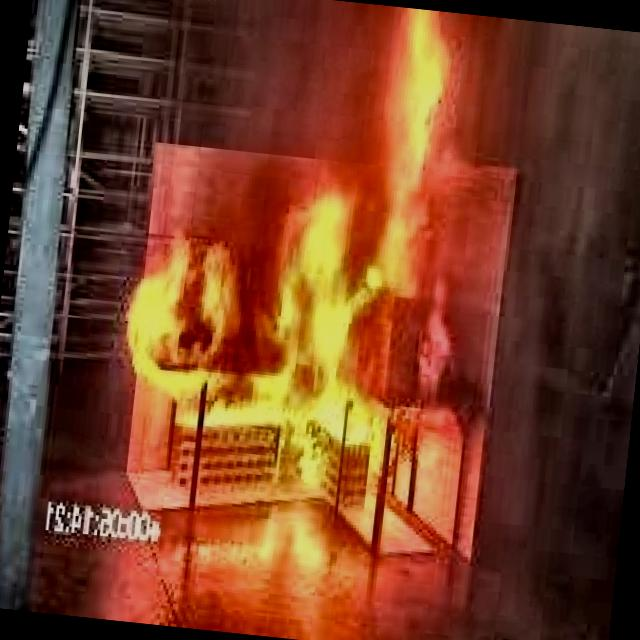fire: (87, 0, 560, 580)
